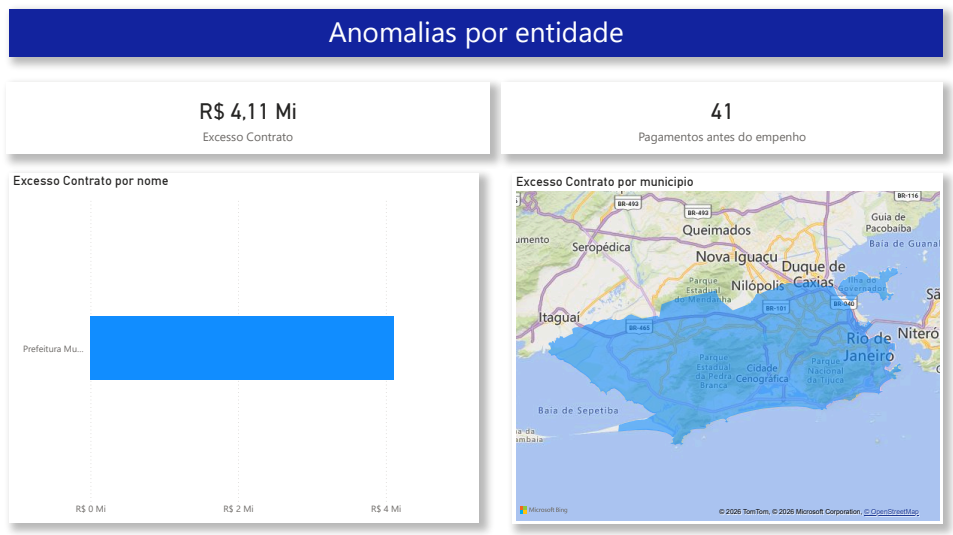

What the dashboard file says about the page in this screenshot:
{"tool":"powerbi","page":{"name":"Página 1","canvas":[1280,720],"ordinal":0},"visuals":[{"type":"card","fields":{"Values":["contrato.Excesso Contrato"]},"box":[14.8,18.1,279.3,279.3],"z":0},{"type":"card","fields":{"Values":["Sum(pagamento.Flag Erro Data)"]},"box":[361.5,18.1,279.3,279.3],"z":1},{"type":"filledMap","fields":{"Category":["entidade.estado"]},"box":[851.1,157.7,279.3,279.3],"z":2}]}

Visuals, with their boxes in screenshot pixels (x1, y1, x2, y2), scaled from the page's 1280x720 canvas onto the 953x535 screenshot:
card - contrato.Excesso Contrato: locate(11, 13, 219, 221)
card - Sum(pagamento.Flag Erro Data): locate(269, 13, 477, 221)
filledMap - entidade.estado: locate(634, 117, 842, 325)
